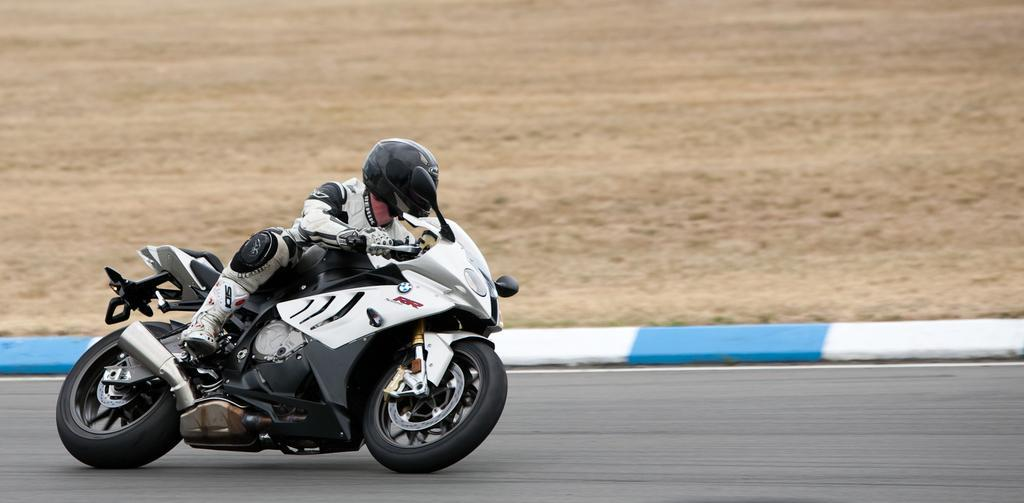helmet: (361, 137, 440, 228)
